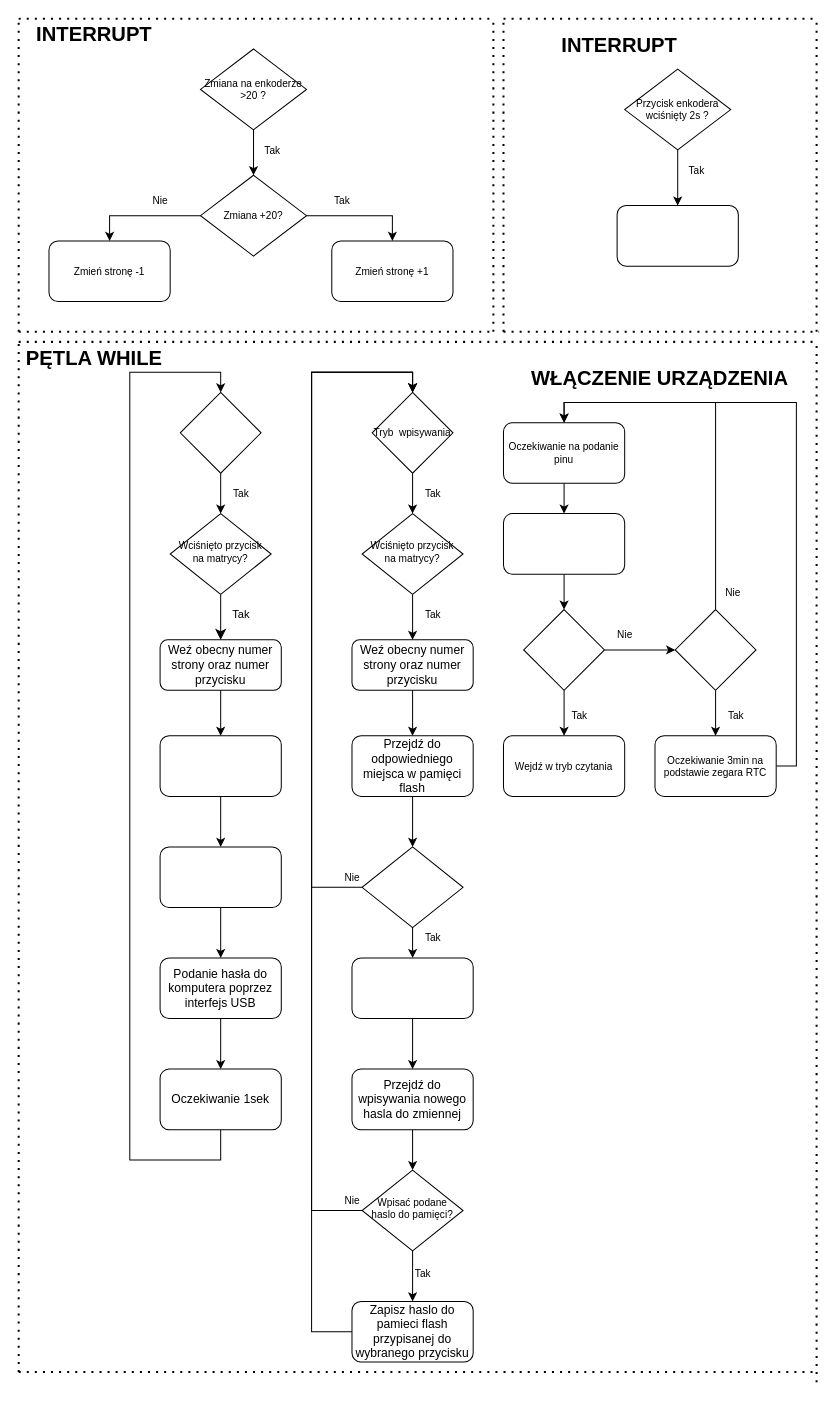
This 838x1401 diagram has some shape labels left out. Here are the shapes that lost their labels. From the top down, the centre of each, then its label:
(x=677, y=235): Zmień tryb (wpisywanie/czytanie)
(x=220, y=432): Tryb czytania
(x=563, y=543): Podano pin, próby pinu +1
(x=563, y=649): Poprawny pin?
(x=715, y=649): Próby >3
(x=220, y=765): Odczytaj odpowiednie hasło z pamięci flash do zmiennej
(x=220, y=876): Odsalanie hasła
(x=412, y=887): W haslo ma byc wyczyszczone?
(x=412, y=988): Wyczyść hasło z pamięci flash
